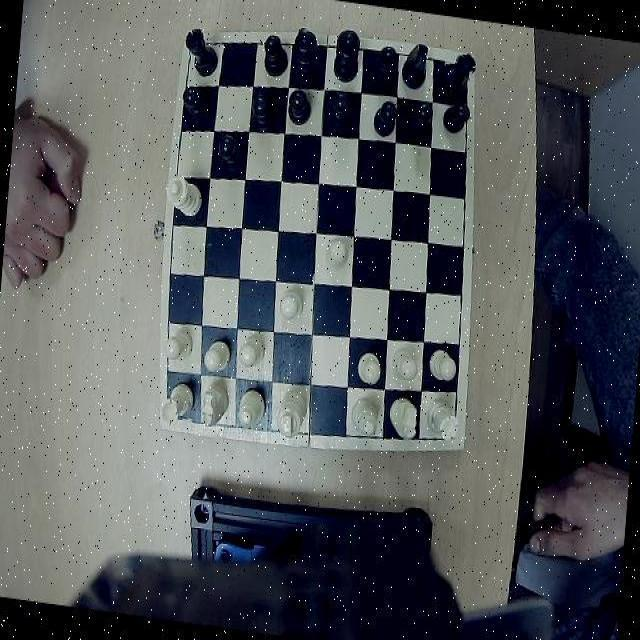chess-table-corners: (161, 402, 194, 434), (432, 418, 464, 450), (444, 53, 474, 87), (186, 29, 210, 58)
